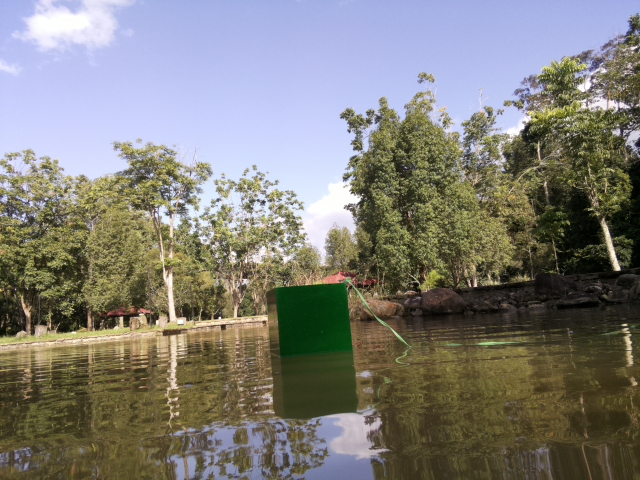obstacle: (264, 281, 354, 358)
